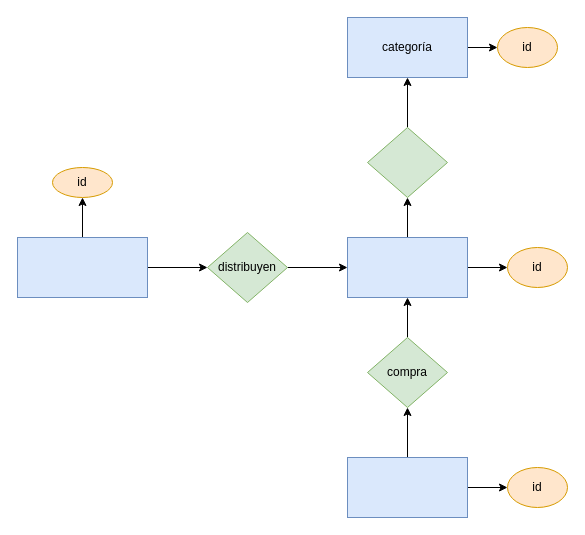
The diagram is 585 pixels wide and 535 high, and some of its shapes have lost their labels. Here are the shapes that lost their labels. From the top down, the centre of each, then its label:
the point at 407,162: tiene
the point at 82,267: proveedores
the point at 407,267: productos
the point at 407,487: clientes
